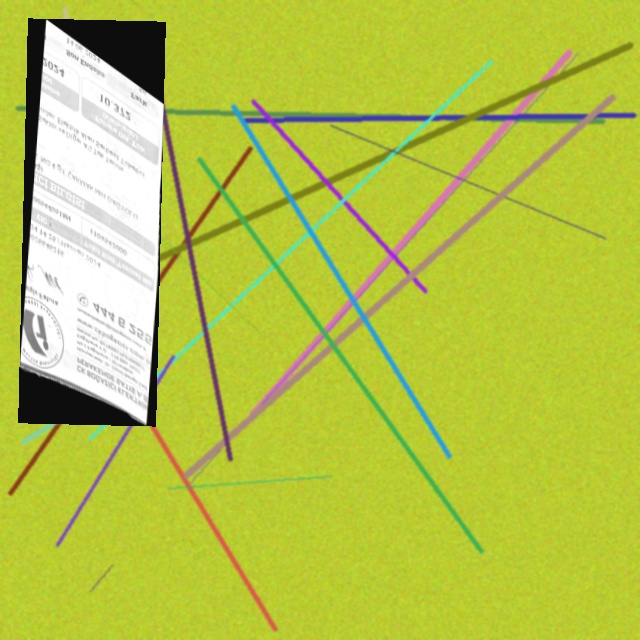electricity-bill: (18, 18, 166, 426)
